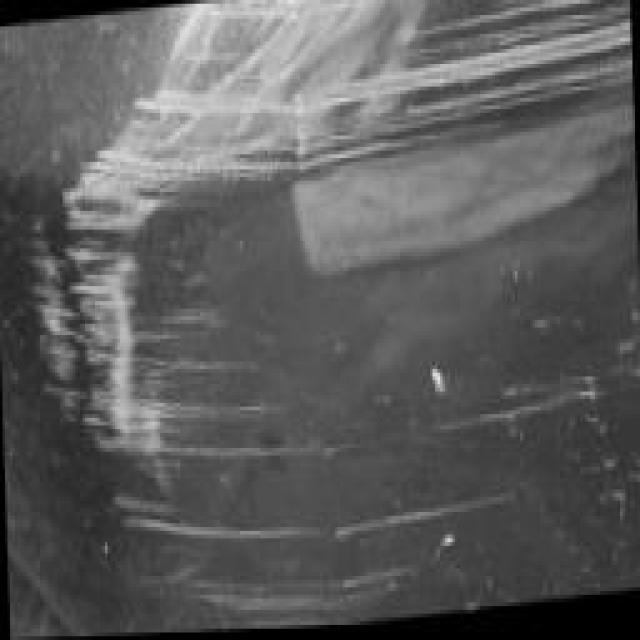Bumper: (22, 0, 640, 639)
